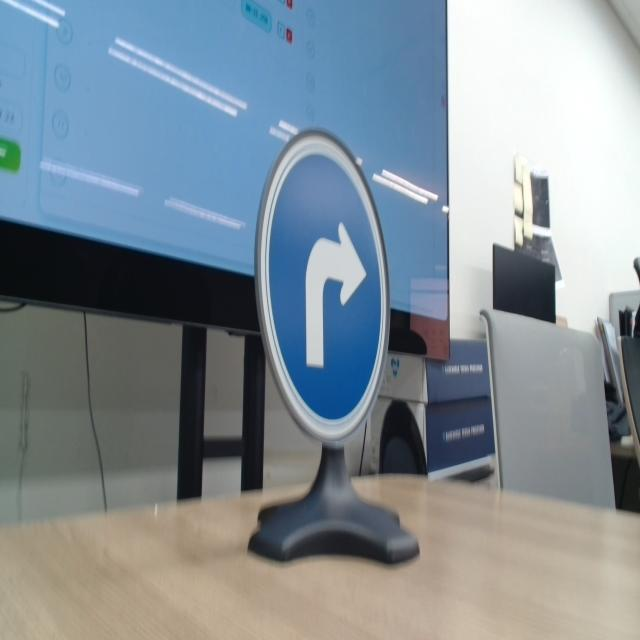right_dierection: (251, 108, 426, 535)
